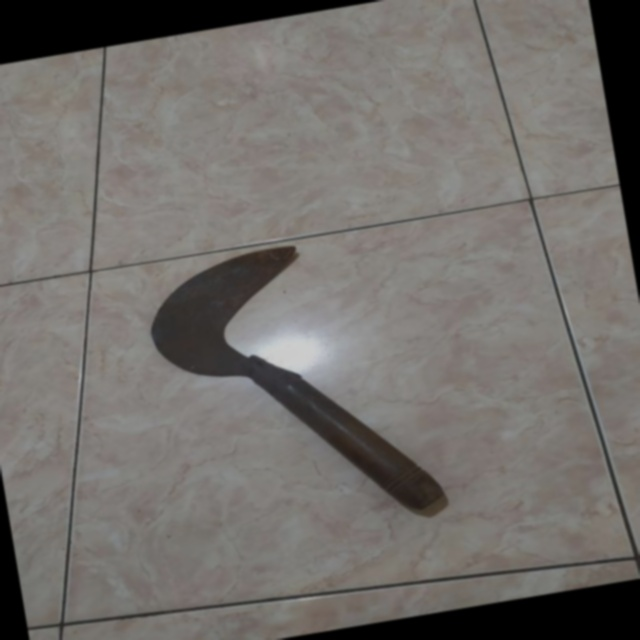Sharp-Object: (119, 215, 455, 567)
